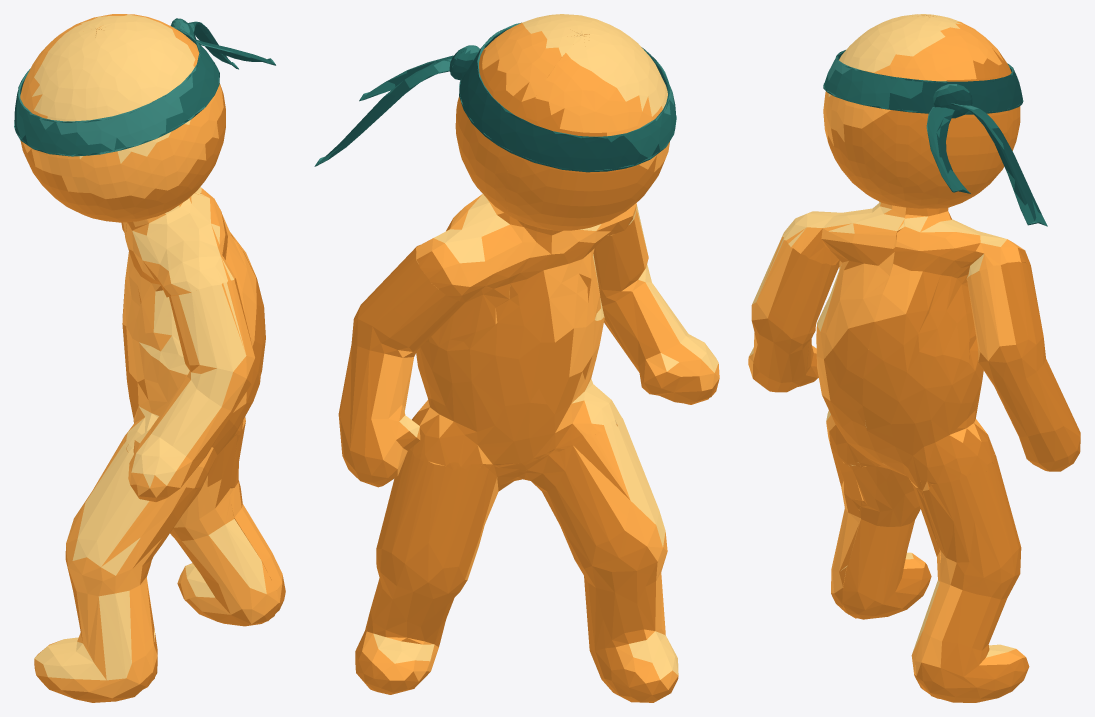
The model's file is Ninja_Idle0_L.gltf.
3 renders of one model, left to right at view 1: azimuth 30°, elevation 25°; view 2: azimuth 150°, elevation 25°; view 3: azimuth 270°, elevation 25°, orthographic. The views are drawn at different scales.
Visible parts, largest first — view 1: Ninja_Idle0_L_baked; view 2: Ninja_Idle0_L_baked; view 3: Ninja_Idle0_L_baked.
Boxes of the visible parts, box(x1,y1,x2,y2) form: Ninja_Idle0_L_baked: box(14, 14, 285, 702); Ninja_Idle0_L_baked: box(314, 14, 719, 702); Ninja_Idle0_L_baked: box(748, 14, 1080, 702).
Size of the model in its own units: 0.4314 by 1 by 0.4915.
